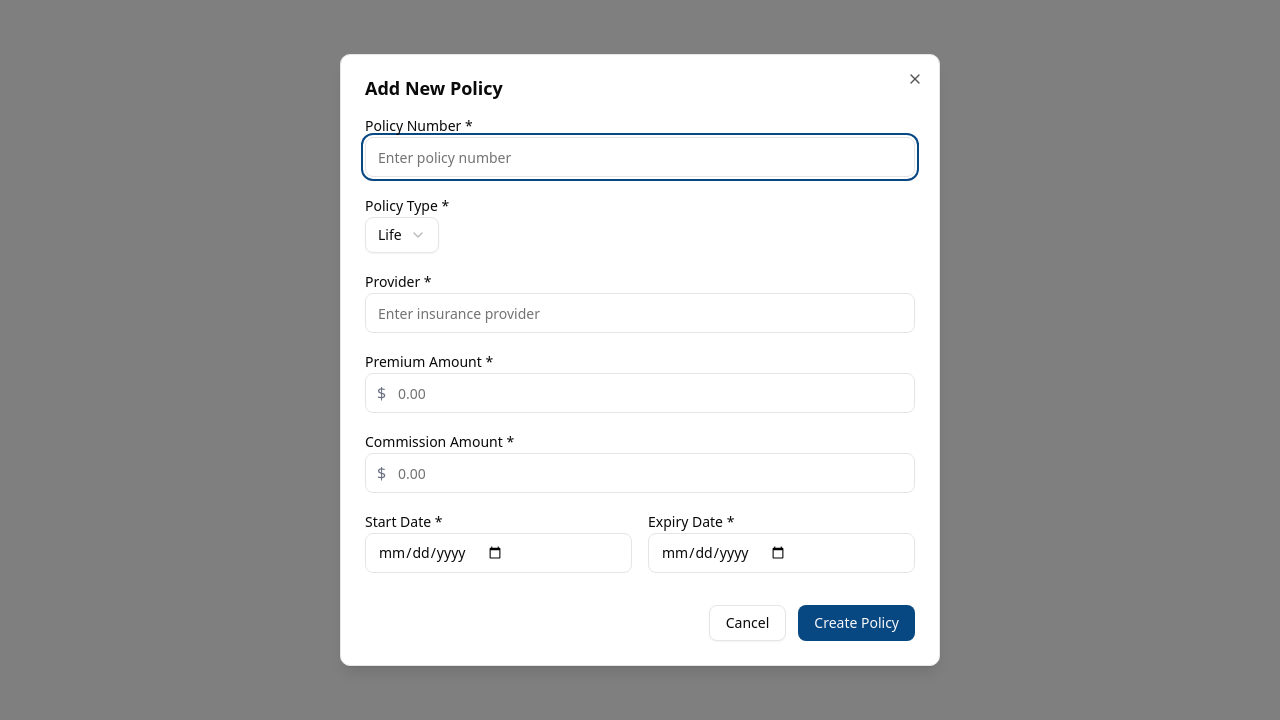
Scenario: PolicyModal › Form Submission › shows submitting state during form submission
The width and height of the screenshot is (1280, 720).
// Fill out form with valid data
Type "POL-123" into the field labelled "Policy Number *".
click(640, 157); type("POL-123")  # box [365,137,915,177]
Type "Test Insurance" into the field labelled "Provider *".
click(640, 313); type("Test Insurance")  # box [365,293,915,333]
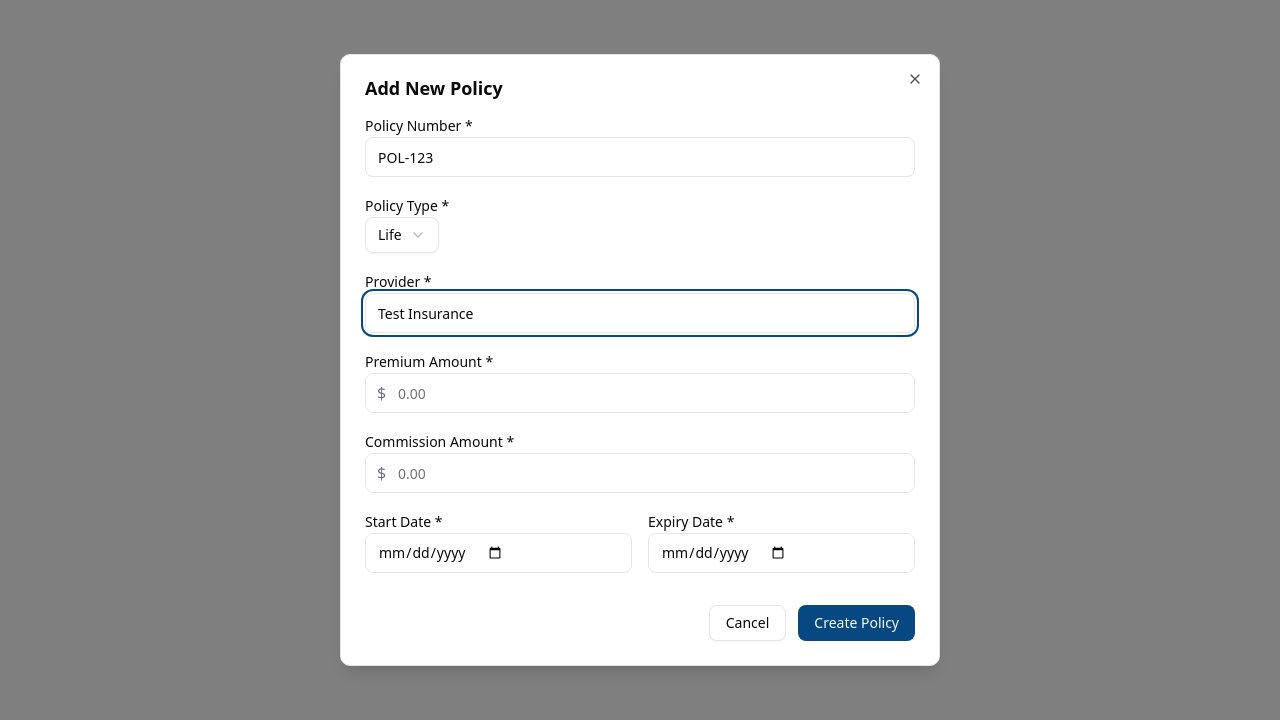
Type "1000" into the field labelled "Premium Amount *".
click(640, 393); type("1000")  # box [365,373,915,413]
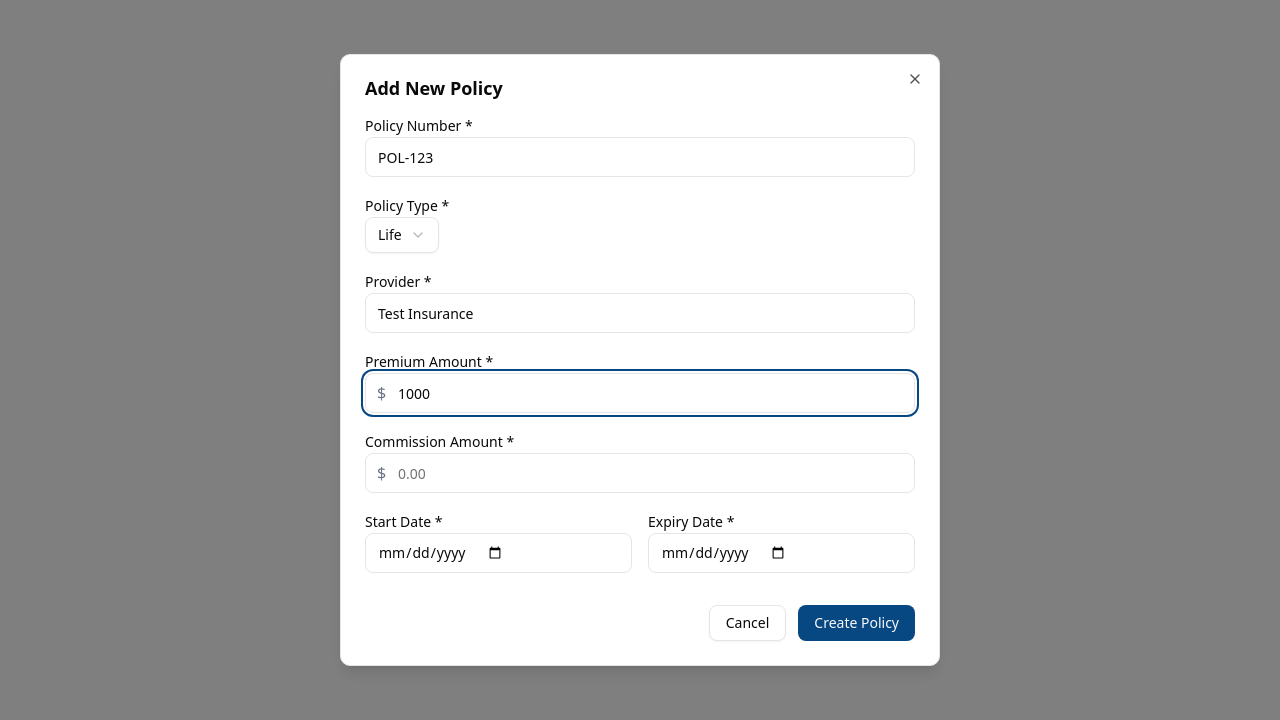
Type "100" into the field labelled "Commission Amount *".
click(640, 473); type("100")  # box [365,453,915,493]
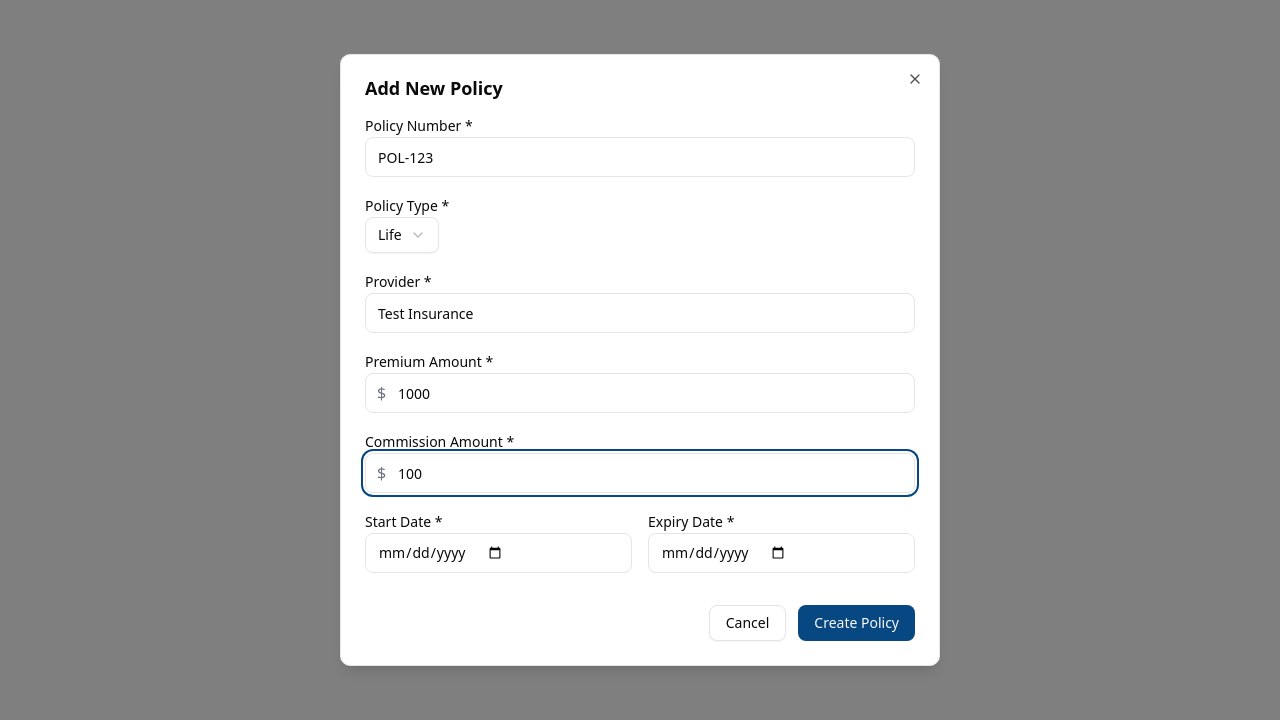
Type "2024-01-01" into the date field labelled "Start Date *".
click(498, 553); type("2024-01-01")  # box [365,533,632,573]
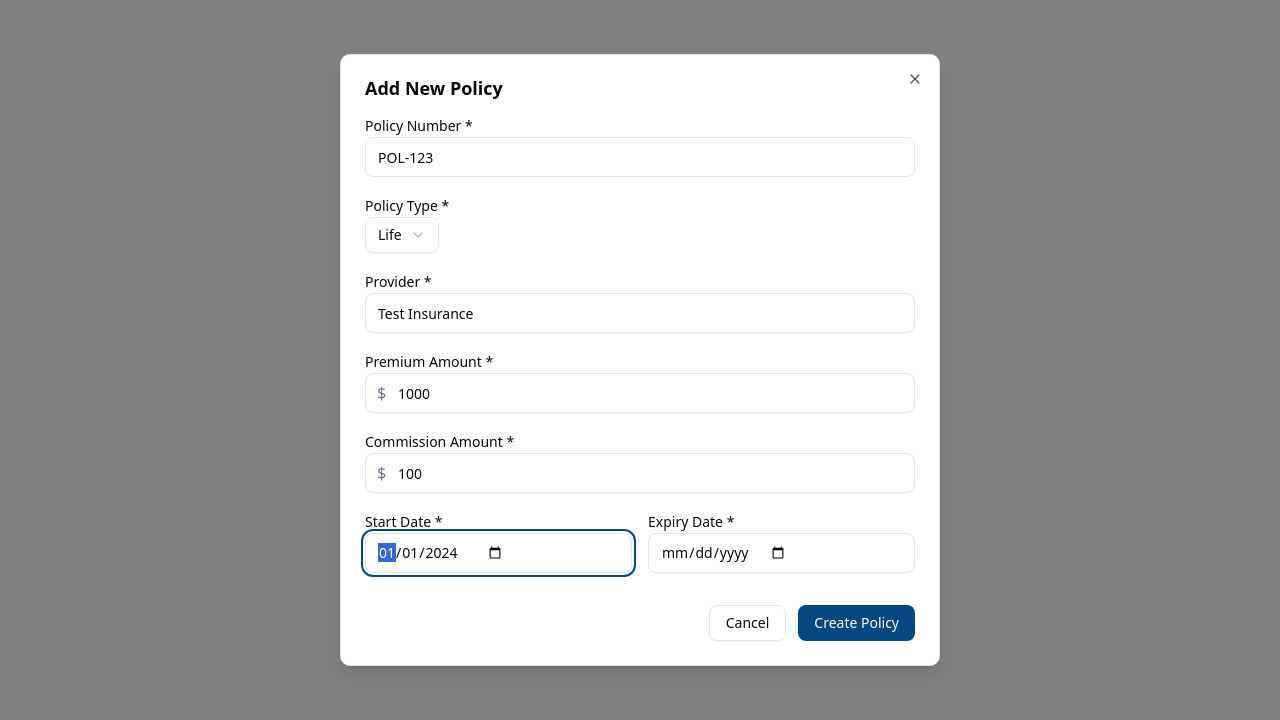
Type "2025-01-01" into the date field labelled "Expiry Date *".
click(782, 553); type("2025-01-01")  # box [648,533,915,573]
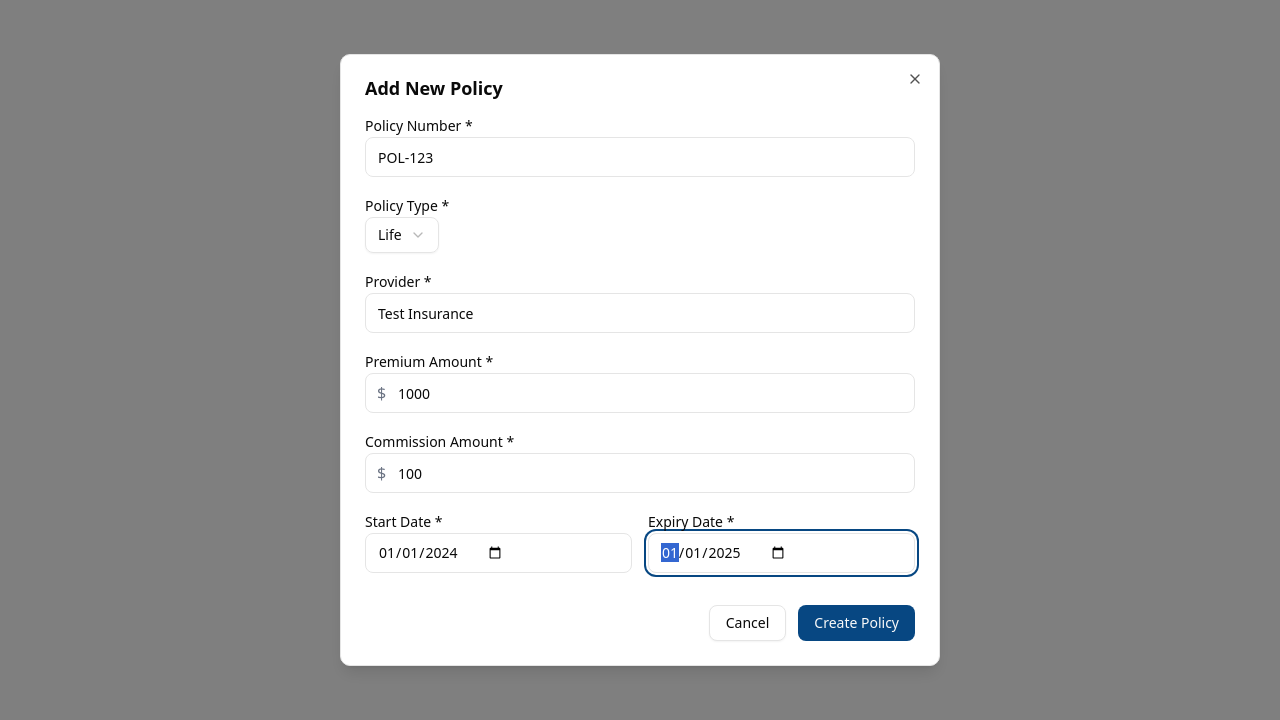
Click the button "Create Policy".
click(857, 623)  # box [798,605,915,641]
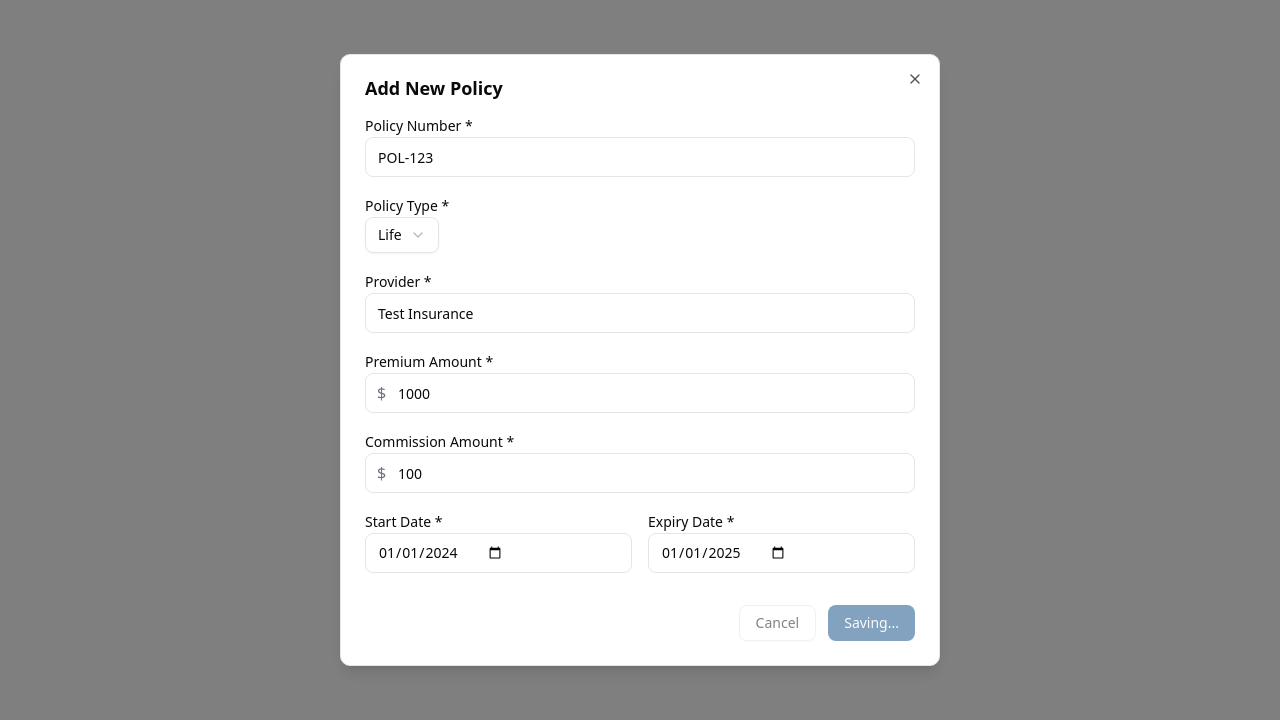
Expected: the button "Saving..." is disabled, [828,605,915,641]
